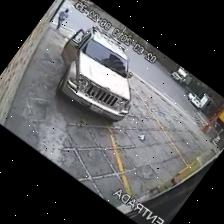person: (55, 8, 67, 30)
